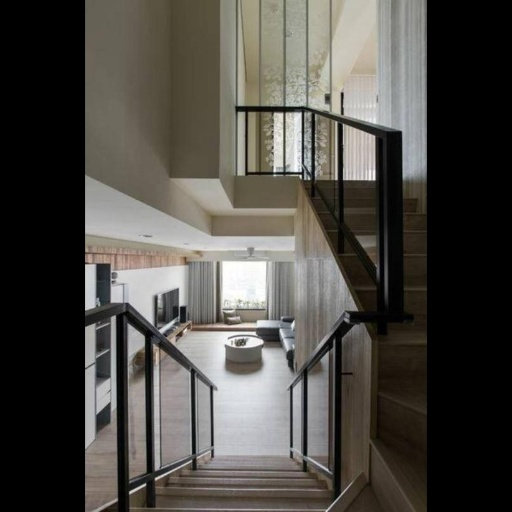Stairs: (371, 198, 427, 512), (132, 456, 331, 512)
